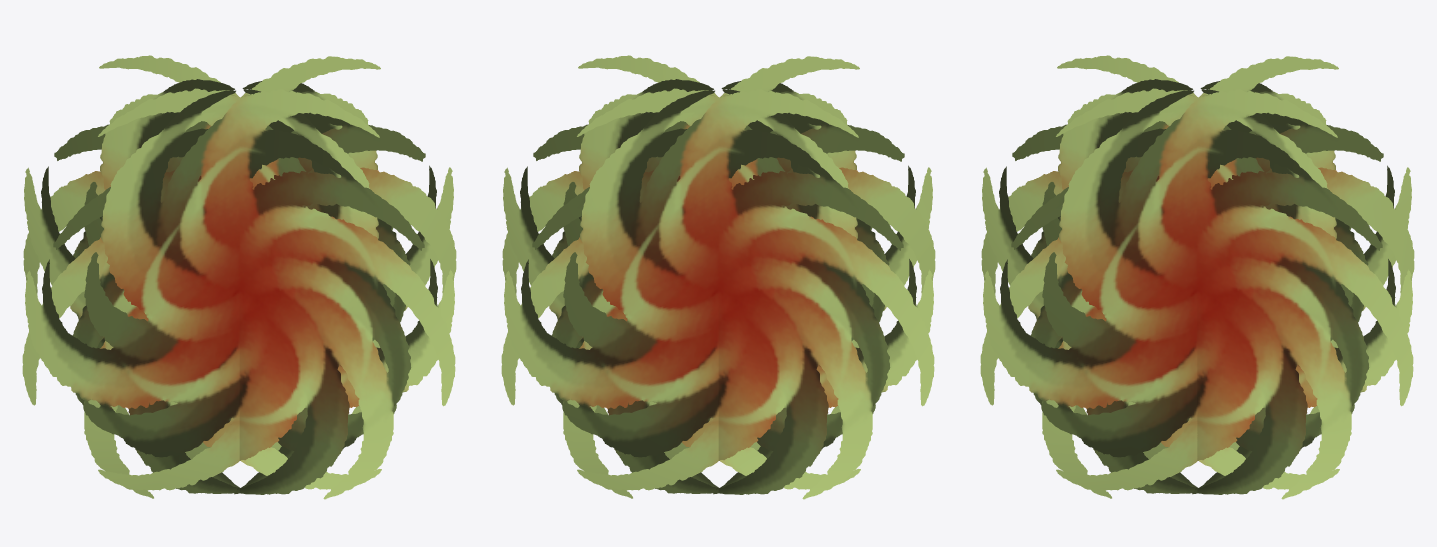
Rendered from HP3_weed063.fbx.
3 renders of one model, left to right at view 1: azimuth 30°, elevation 25°; view 2: azimuth 150°, elevation 25°; view 3: azimuth 270°, elevation 25°, orthographic.
Parts seen in each view (by area): view 1: HP3_weed063; view 2: HP3_weed063; view 3: HP3_weed063.
Boxes of the visible parts, <box> form: HP3_weed063: <box>22,55,456,499</box>; HP3_weed063: <box>501,55,935,499</box>; HP3_weed063: <box>980,55,1414,499</box>.
Size of the model in its own units: 7.5 by 7.1 by 6.51.
